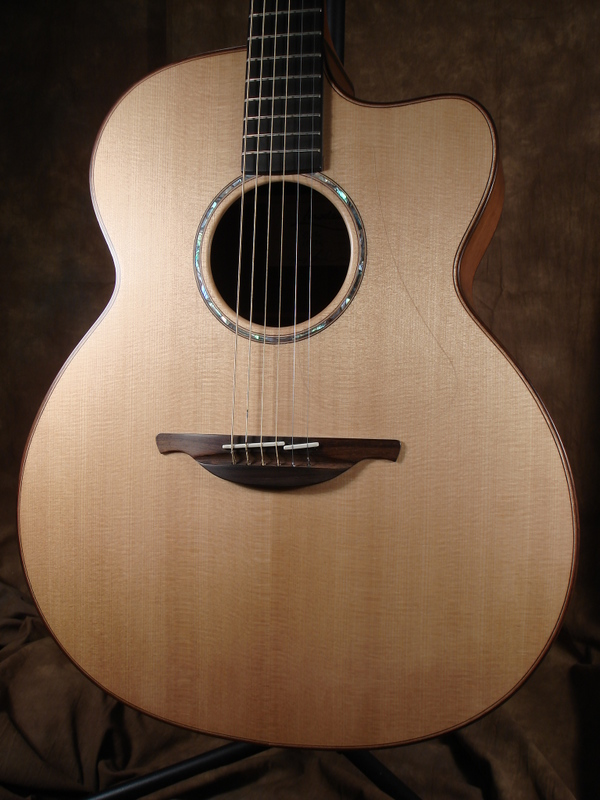guitar: (16, 1, 578, 746)
